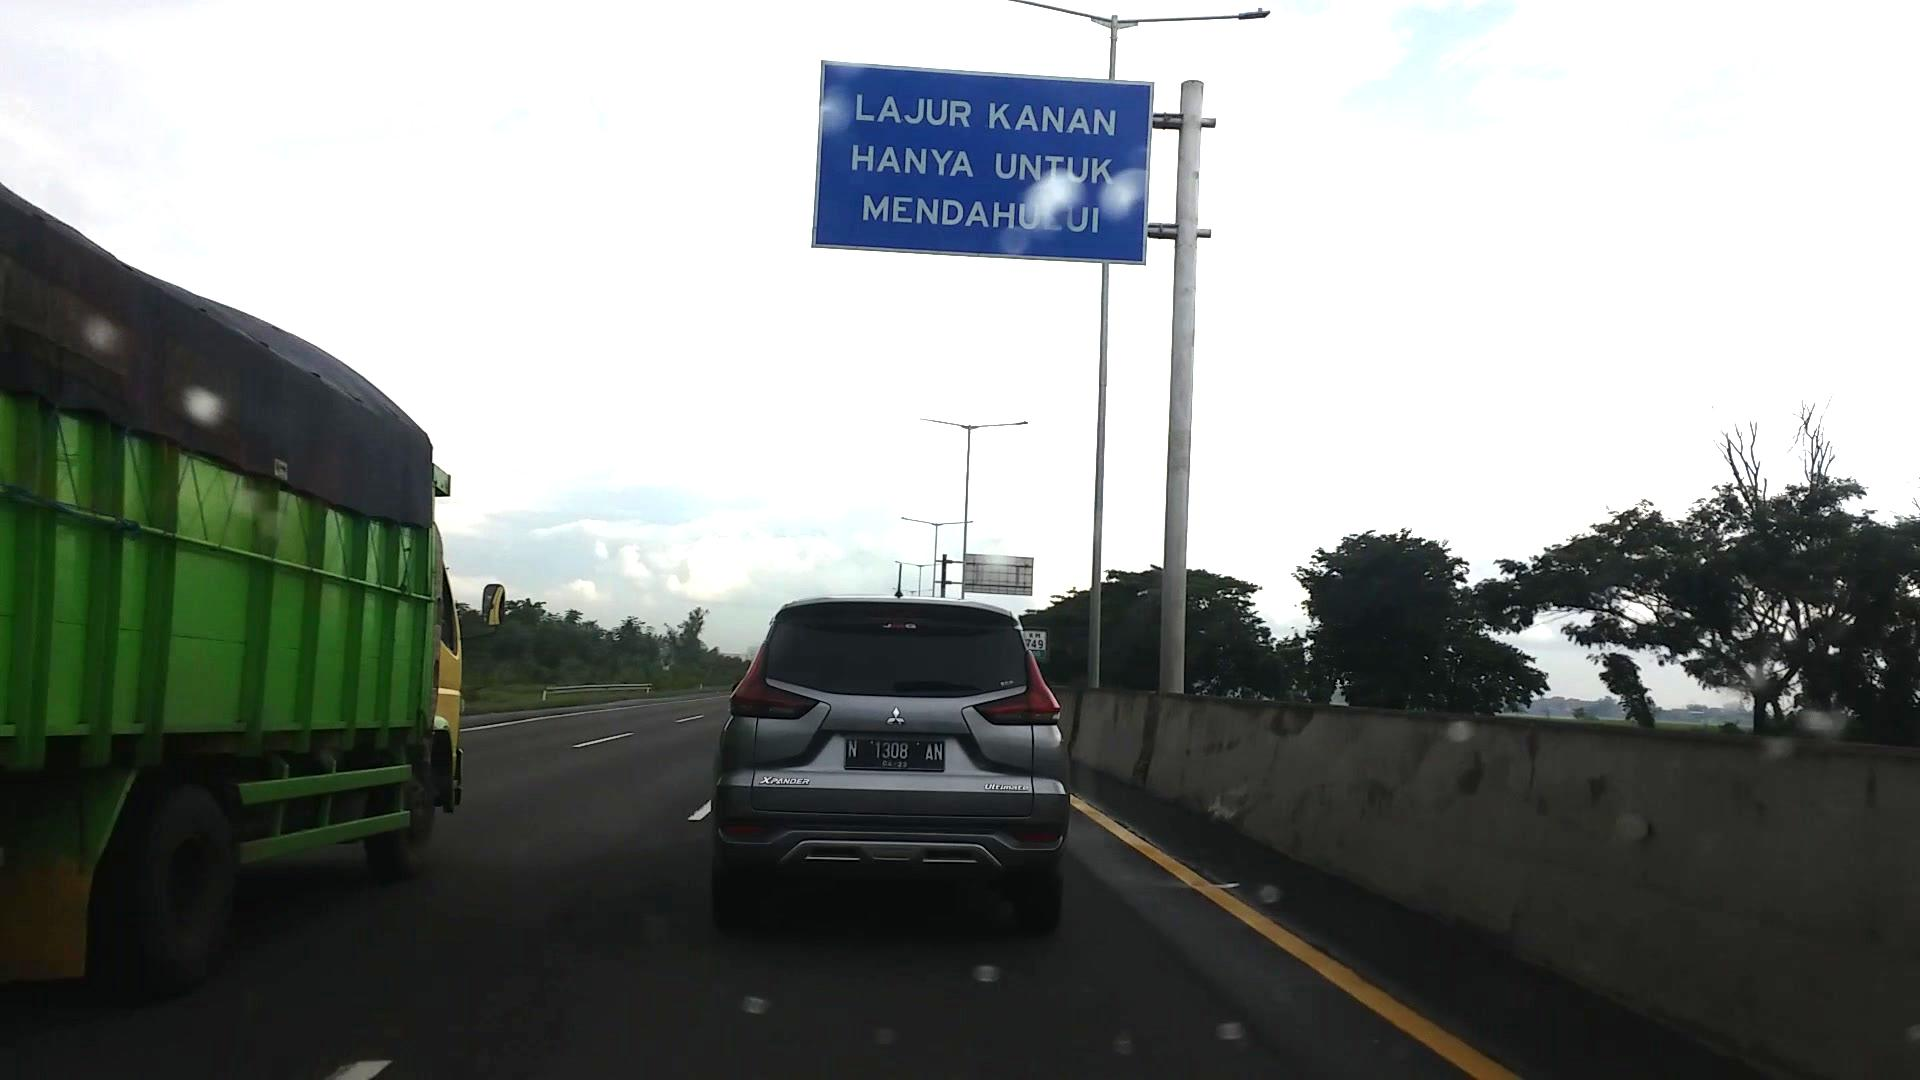plate_positive: (845, 738, 945, 773)
